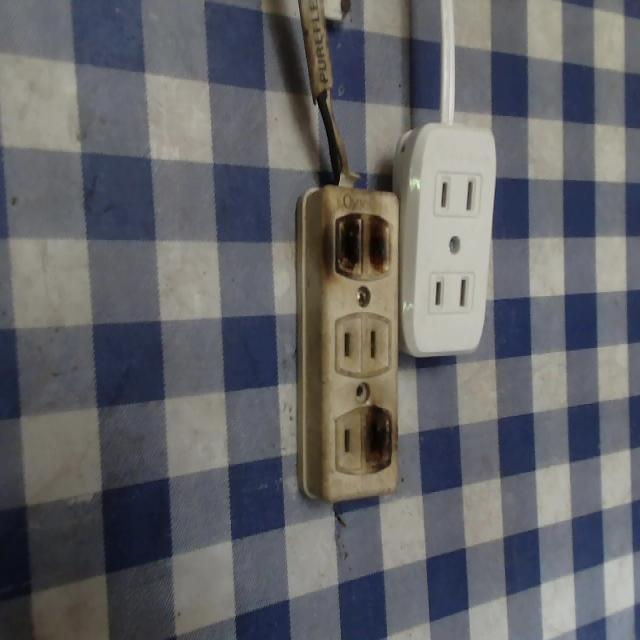-: (332, 210, 396, 282), (362, 405, 395, 479)
